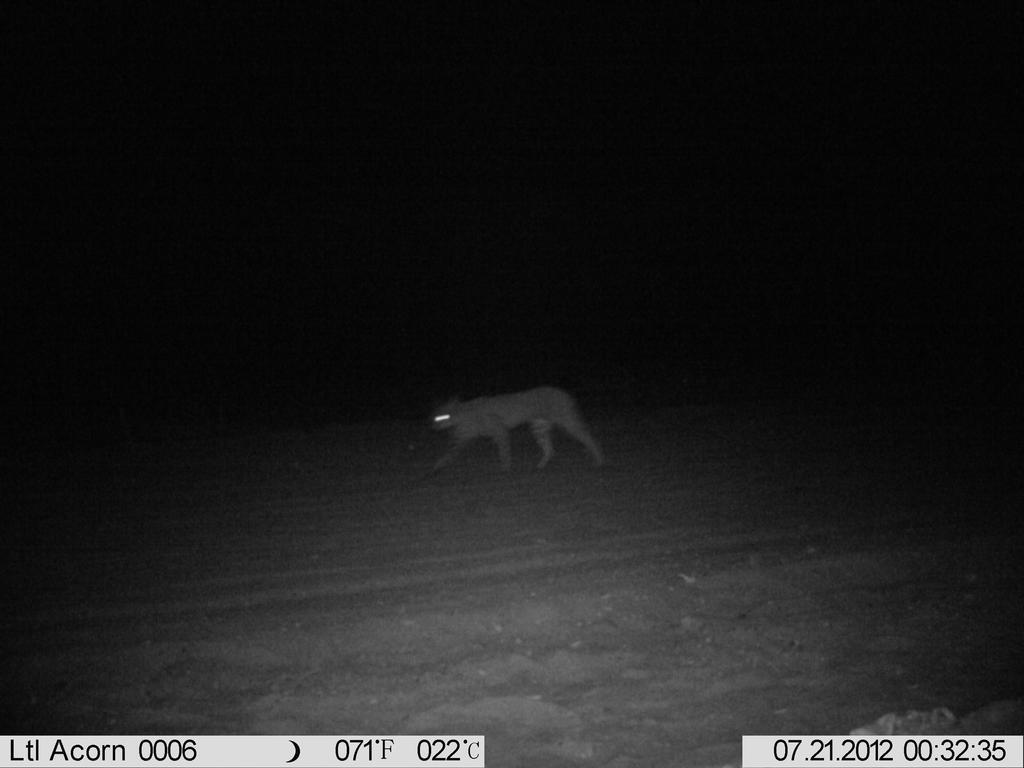bobcat: (417, 386, 615, 485)
